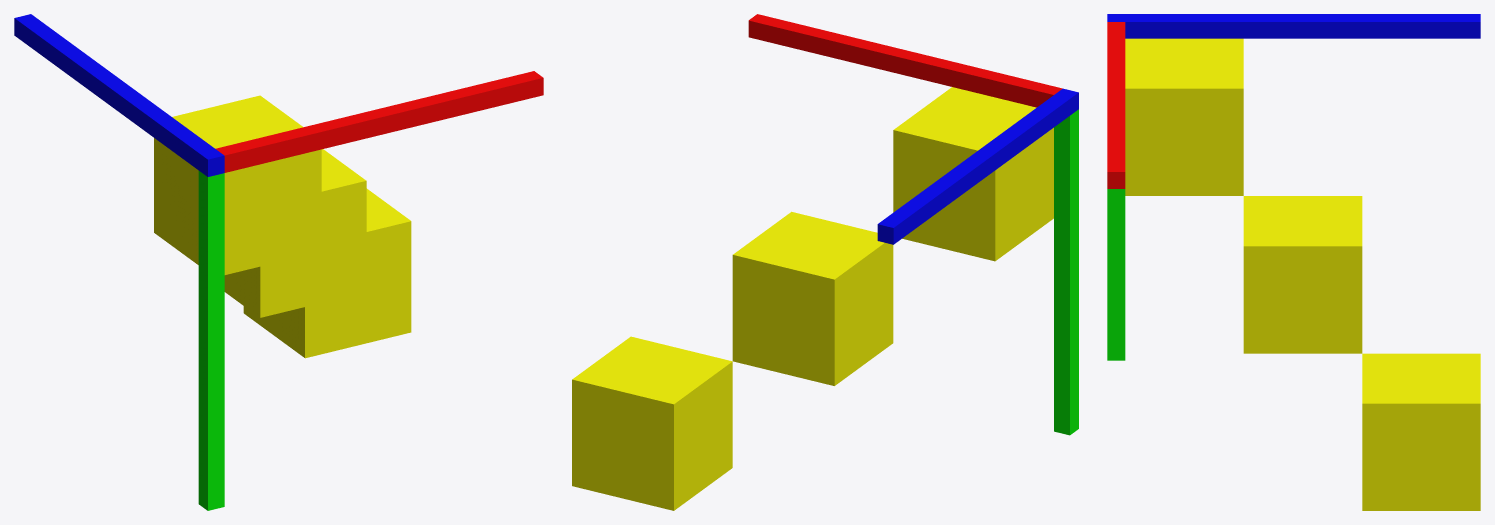
File: axis_diagonal.gltf
3 views of the same model, side by side, from view 1: azimuth 30°, elevation 25°; view 2: azimuth 150°, elevation 25°; view 3: azimuth 270°, elevation 25° (orthographic). The views are drawn at different scales.
Parts seen in each view (by area): view 1: Cube.006, Cube.020, Cube.013, 立方體.006, 立方體.007, 立方體; view 2: Cube.020, Cube.013, Cube.006, 立方體.006, 立方體.007, 立方體; view 3: Cube.013, Cube.006, Cube.020, 立方體, 立方體.006, 立方體.007.
Boxes of the visible parts, left/top/right/bottom form: Cube.006: left=154, top=95, right=321, bottom=274; Cube.020: left=243, top=188, right=411, bottom=358; Cube.013: left=224, top=149, right=366, bottom=317; 立方體.006: left=198, top=171, right=224, bottom=510; 立方體.007: left=215, top=71, right=543, bottom=172; 立方體: left=14, top=14, right=224, bottom=176; Cube.020: left=572, top=336, right=732, bottom=510; Cube.013: left=732, top=211, right=893, bottom=385; Cube.006: left=893, top=87, right=1053, bottom=261; 立方體.006: left=1054, top=109, right=1078, bottom=435; 立方體.007: left=748, top=14, right=1062, bottom=107; 立方體: left=877, top=88, right=1078, bottom=244; Cube.013: left=1243, top=196, right=1362, bottom=353; Cube.006: left=1125, top=38, right=1243, bottom=195; Cube.020: left=1362, top=353, right=1480, bottom=510; 立方體: left=1107, top=14, right=1480, bottom=38; 立方體.006: left=1107, top=189, right=1125, bottom=360; 立方體.007: left=1107, top=22, right=1125, bottom=188.
Bounding box in the file's own units: 0.6313 × 0.6315 × 0.6303.
